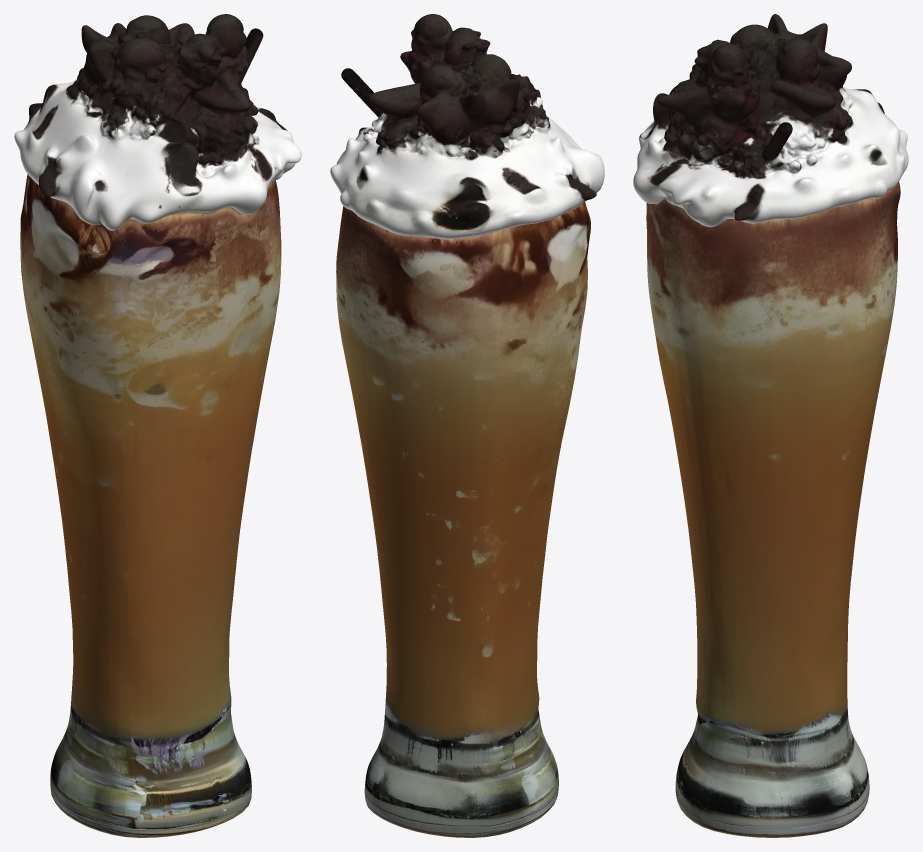
The model's file is Cold_Coffee.glb.
The picture shows the model from 3 angles, left to right: view 1: azimuth 30°, elevation 25°; view 2: azimuth 150°, elevation 25°; view 3: azimuth 270°, elevation 25°; orthographic projection. The views are drawn at different scales.
Bounding box in the file's own units: 0.6214 × 1.9 × 0.6082.
1 material, 1 textured.
